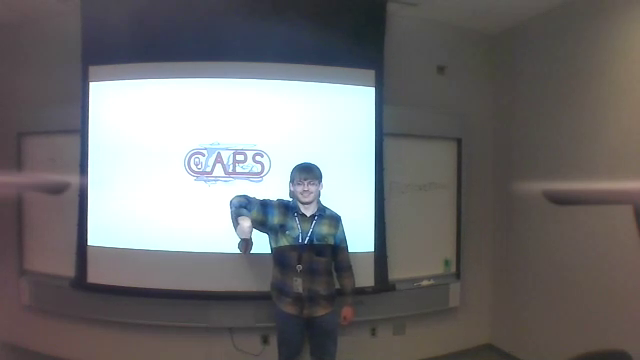down: (230, 219, 259, 259)
